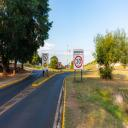Rotatoria: (43, 61, 48, 69)
speed_limit_30: (74, 56, 83, 68)
